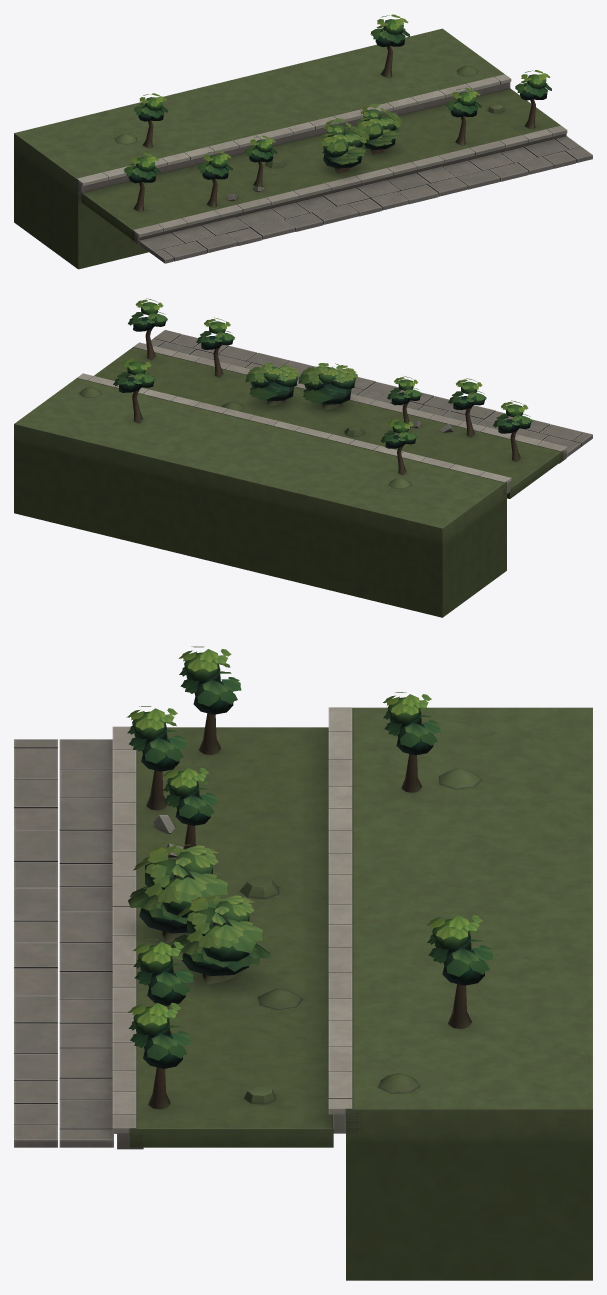
The model's file is skirt_rift_low.glb.
The picture shows the model from 3 angles, top to bottom: view 1: azimuth 30°, elevation 25°; view 2: azimuth 150°, elevation 25°; view 3: azimuth 270°, elevation 25°; orthographic projection. The views are drawn at different scales.
Visible parts, largest first — view 1: skirt_rift_low_body, skirt_rift_low_trees; view 2: skirt_rift_low_body, skirt_rift_low_trees; view 3: skirt_rift_low_body, skirt_rift_low_trees.
Boxes of the visible parts, x1=… form: skirt_rift_low_body: x1=14, y1=28, x2=592, y2=269; skirt_rift_low_trees: x1=124, y1=14, x2=551, y2=212; skirt_rift_low_body: x1=14, y1=330, x2=592, y2=617; skirt_rift_low_trees: x1=113, y1=298, x2=532, y2=475; skirt_rift_low_body: x1=14, y1=707, x2=592, y2=1280; skirt_rift_low_trees: x1=126, y1=646, x2=493, y2=1109.
Bounding box in the file's own units: 22 × 7.28 × 13.4.
Materials: 2 (1 with a texture image).
